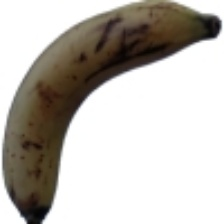banana: (0, 28, 198, 208)
